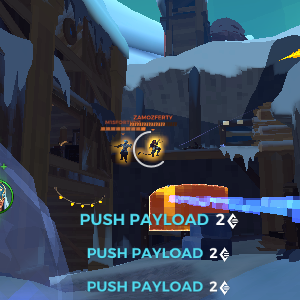model: (114, 137, 132, 166), (143, 136, 163, 161)
